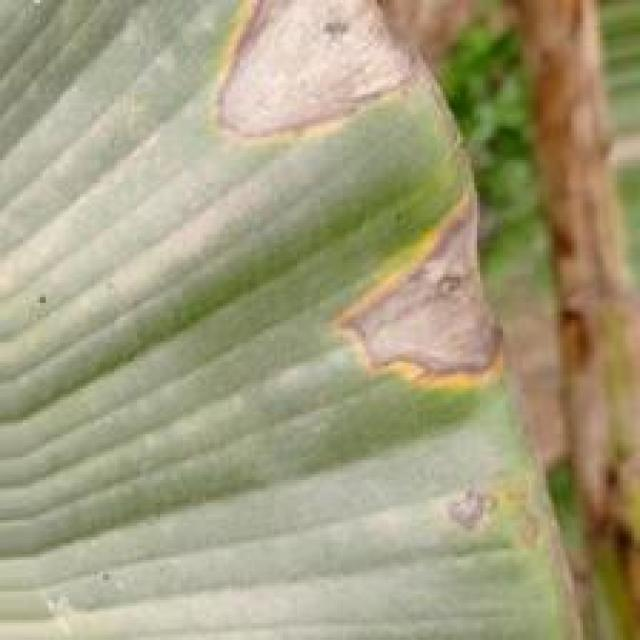Bacterial_spot: (324, 174, 511, 394), (204, 0, 438, 156), (436, 466, 566, 578)
